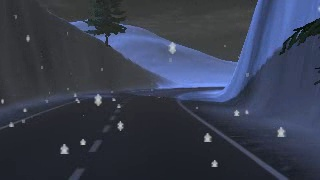Lane: (0, 86, 287, 179)
